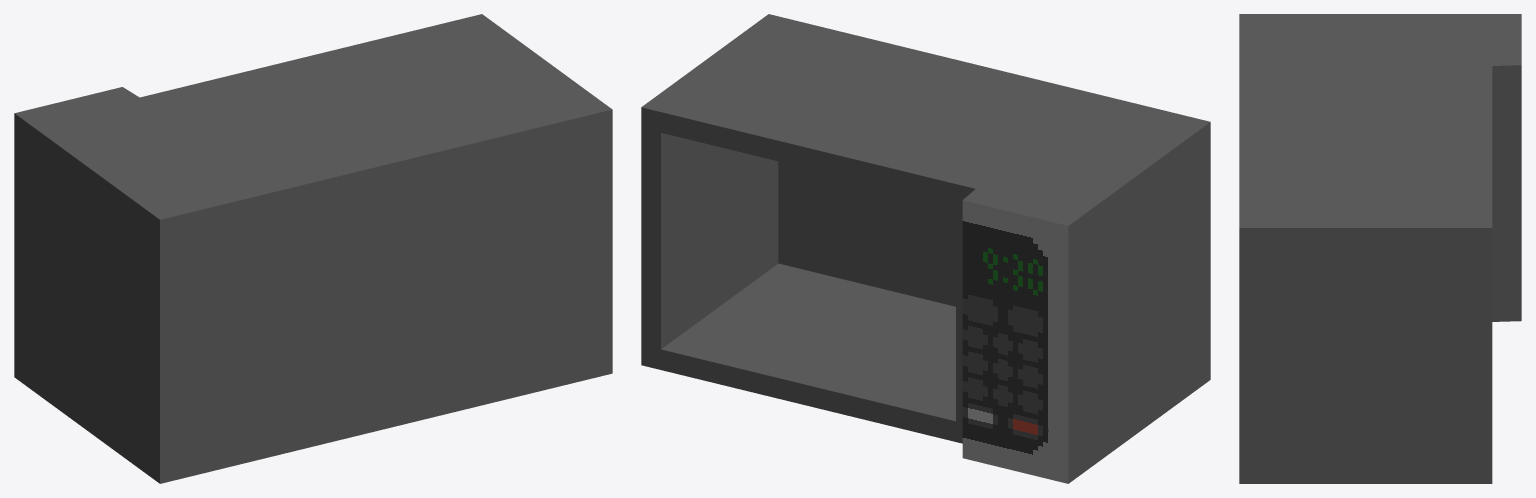
File: microwave.glb
The picture shows the model from 3 angles, left to right: view 1: azimuth 30°, elevation 25°; view 2: azimuth 150°, elevation 25°; view 3: azimuth 270°, elevation 25°; orthographic projection. The views are drawn at different scales.
Visible parts, largest first — view 1: Cube; view 2: Cube; view 3: Cube.
Part boxes in pixels (x1,y1,x2,y2): Cube: (14,14,612,483); Cube: (641,14,1210,483); Cube: (1239,14,1521,483).
Size of the model in its own units: 55.58 by 31 by 31.
1 material, 1 textured.
